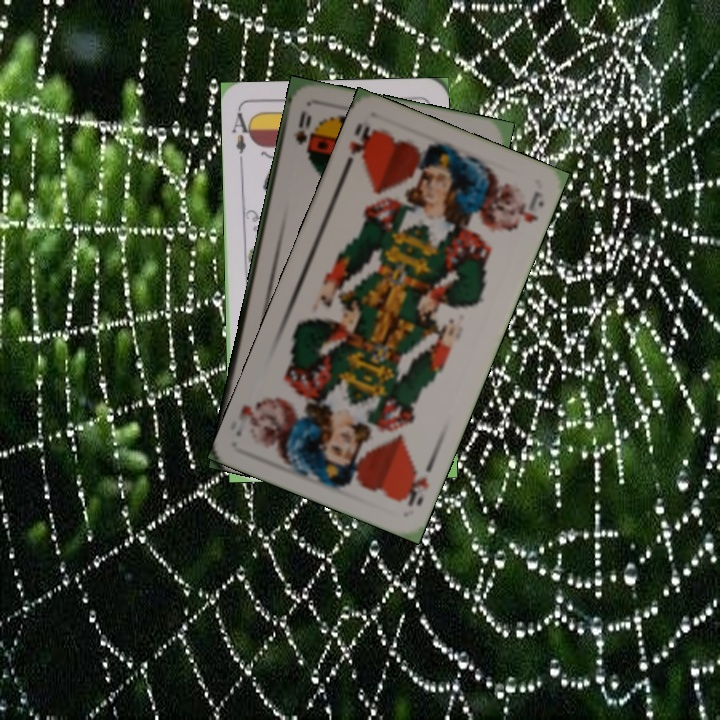EA: (228, 107, 255, 166)
HO: (397, 456, 437, 510), (339, 119, 378, 174)
SO: (289, 107, 314, 156)
